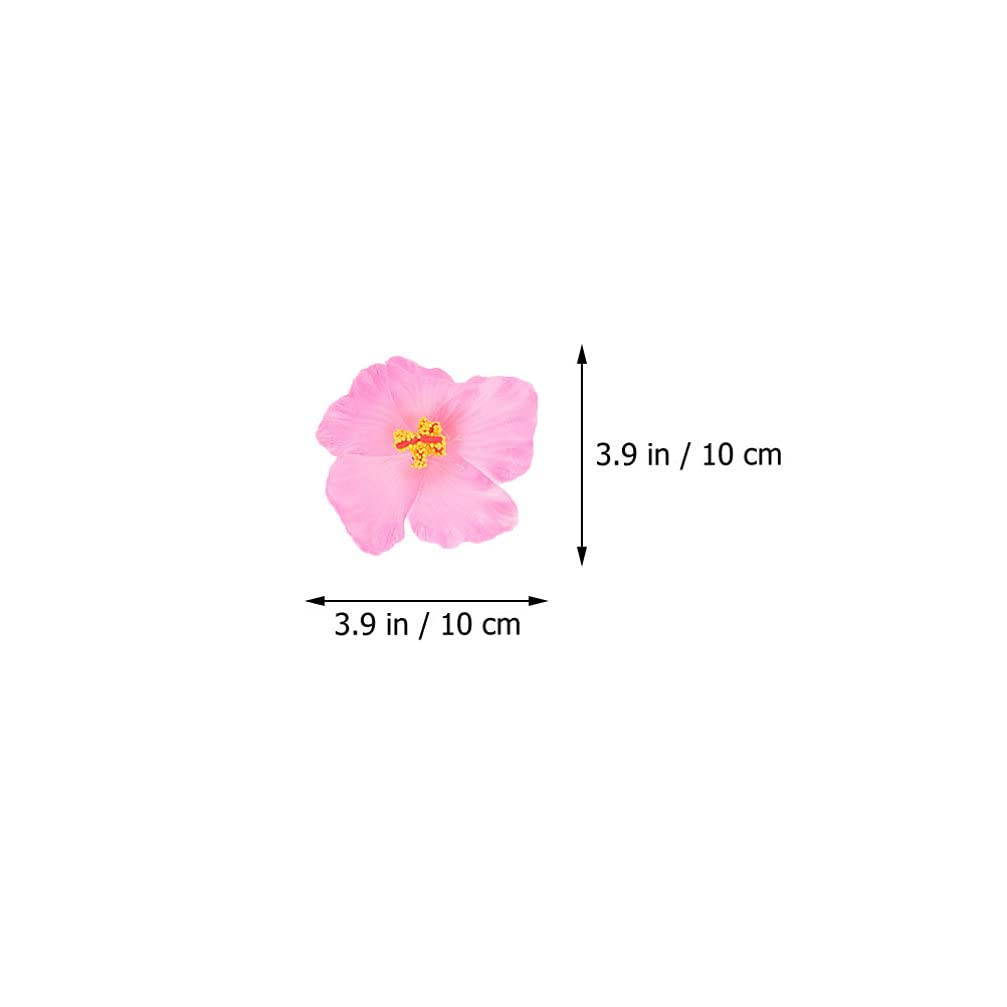/: (418, 612, 430, 640), (680, 442, 691, 471)
10cm: (704, 442, 781, 466), (442, 612, 520, 635)
